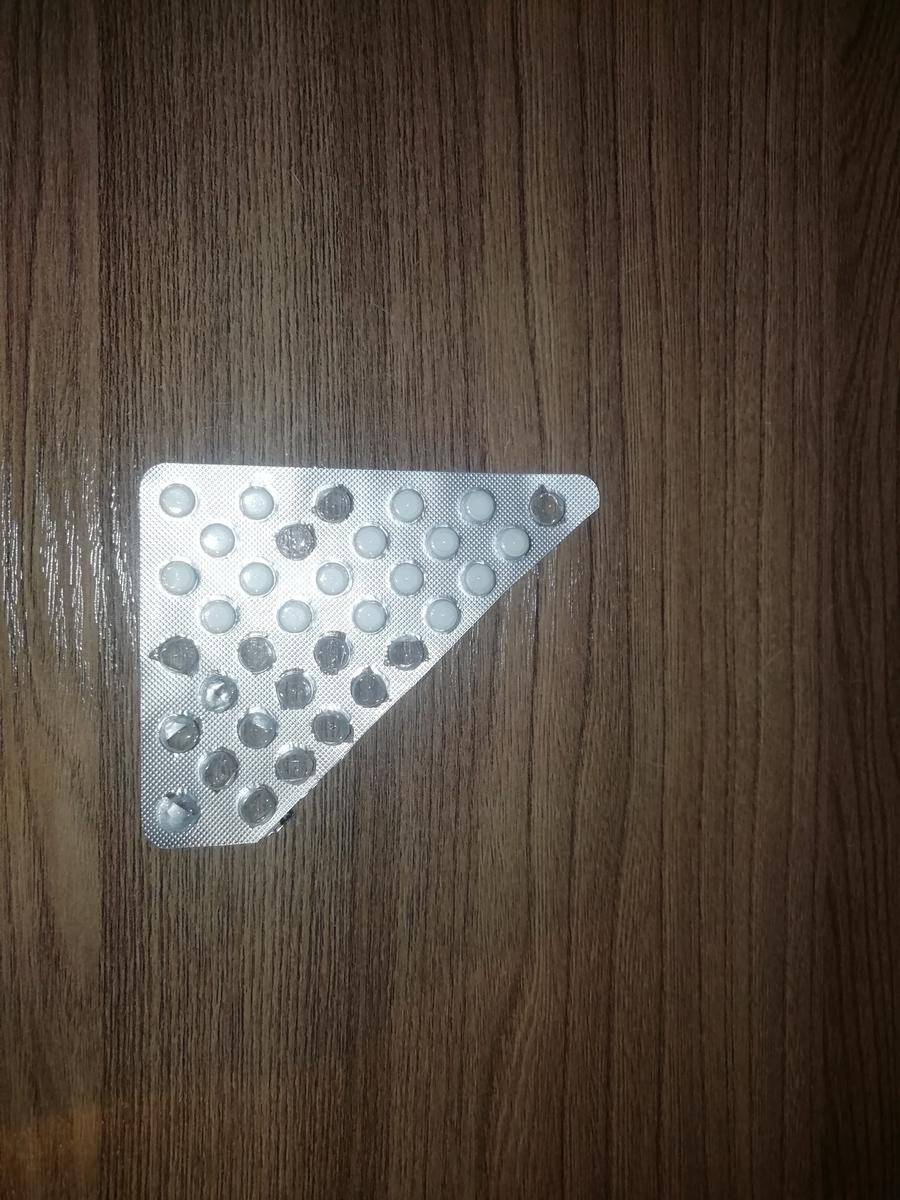tablet: (454, 487, 497, 527), (493, 521, 536, 561), (455, 560, 498, 600), (423, 524, 466, 564), (385, 485, 428, 525), (313, 556, 356, 596), (348, 522, 391, 562), (381, 558, 424, 598), (421, 594, 464, 634), (348, 598, 391, 638), (275, 596, 318, 636), (235, 560, 278, 600), (234, 483, 277, 523), (196, 519, 239, 559), (154, 483, 197, 523), (160, 558, 203, 598), (200, 594, 243, 634)
